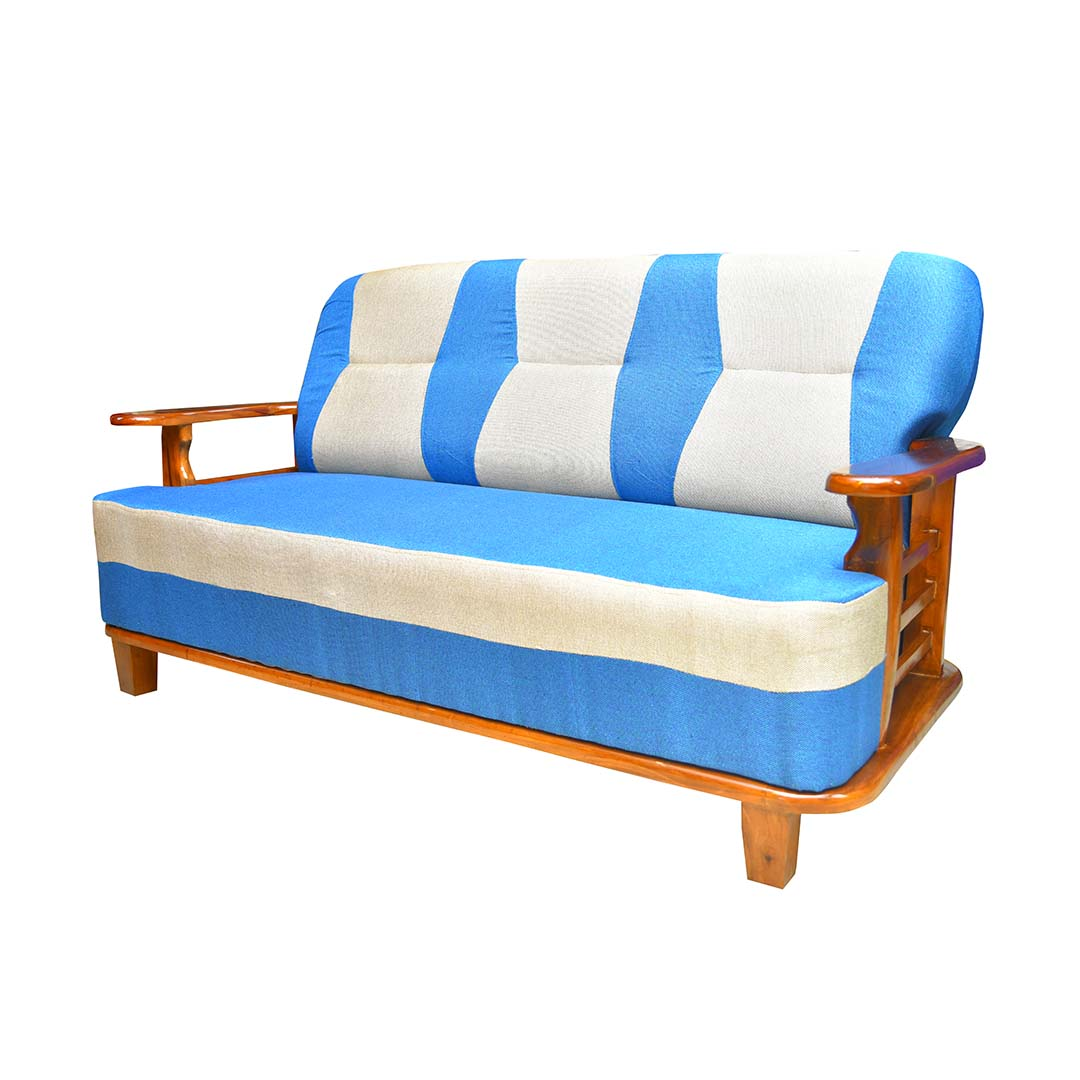3seatersofa: (93, 253, 984, 887)
backrest: (296, 253, 981, 525)
base: (106, 625, 962, 815)
leftarmrest: (827, 438, 984, 736)
leg: (742, 806, 799, 888), (111, 636, 159, 695)
rightarmrest: (111, 402, 296, 484)
seat: (93, 473, 886, 789)
